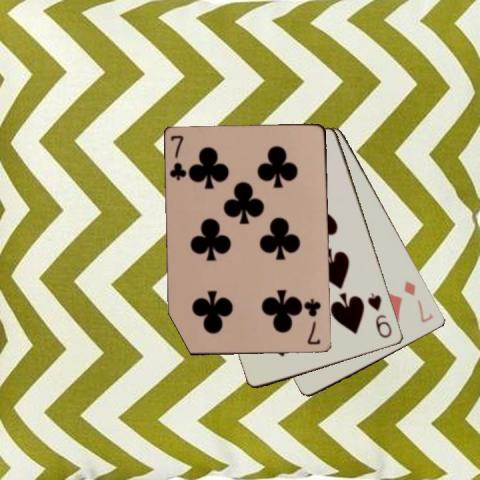7c: (167, 133, 188, 182), (304, 295, 323, 346)
7d: (401, 277, 435, 325)
9s: (365, 290, 394, 340)
